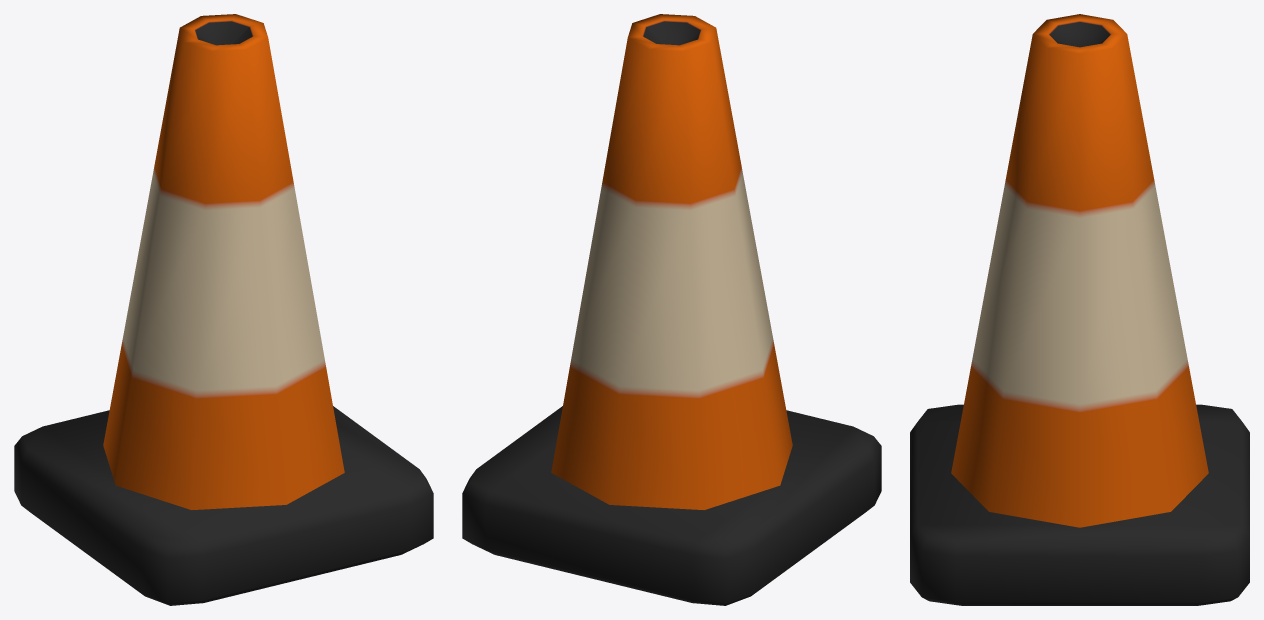
The model's file is TCP2_Demo_RoadWorksCone_Flat.fbx.
3 renders of one model, left to right at view 1: azimuth 30°, elevation 25°; view 2: azimuth 150°, elevation 25°; view 3: azimuth 270°, elevation 25°, orthographic. The views are drawn at different scales.
Visible parts, largest first — view 1: RoadWorksCone_flat; view 2: RoadWorksCone_flat; view 3: RoadWorksCone_flat.
Boxes of the visible parts, x1,y1,x2,y2 form: RoadWorksCone_flat: (14, 14, 433, 605); RoadWorksCone_flat: (462, 14, 881, 605); RoadWorksCone_flat: (910, 14, 1249, 605).
Size of the model in its own units: 0.6196 by 1.01 by 0.6196.
